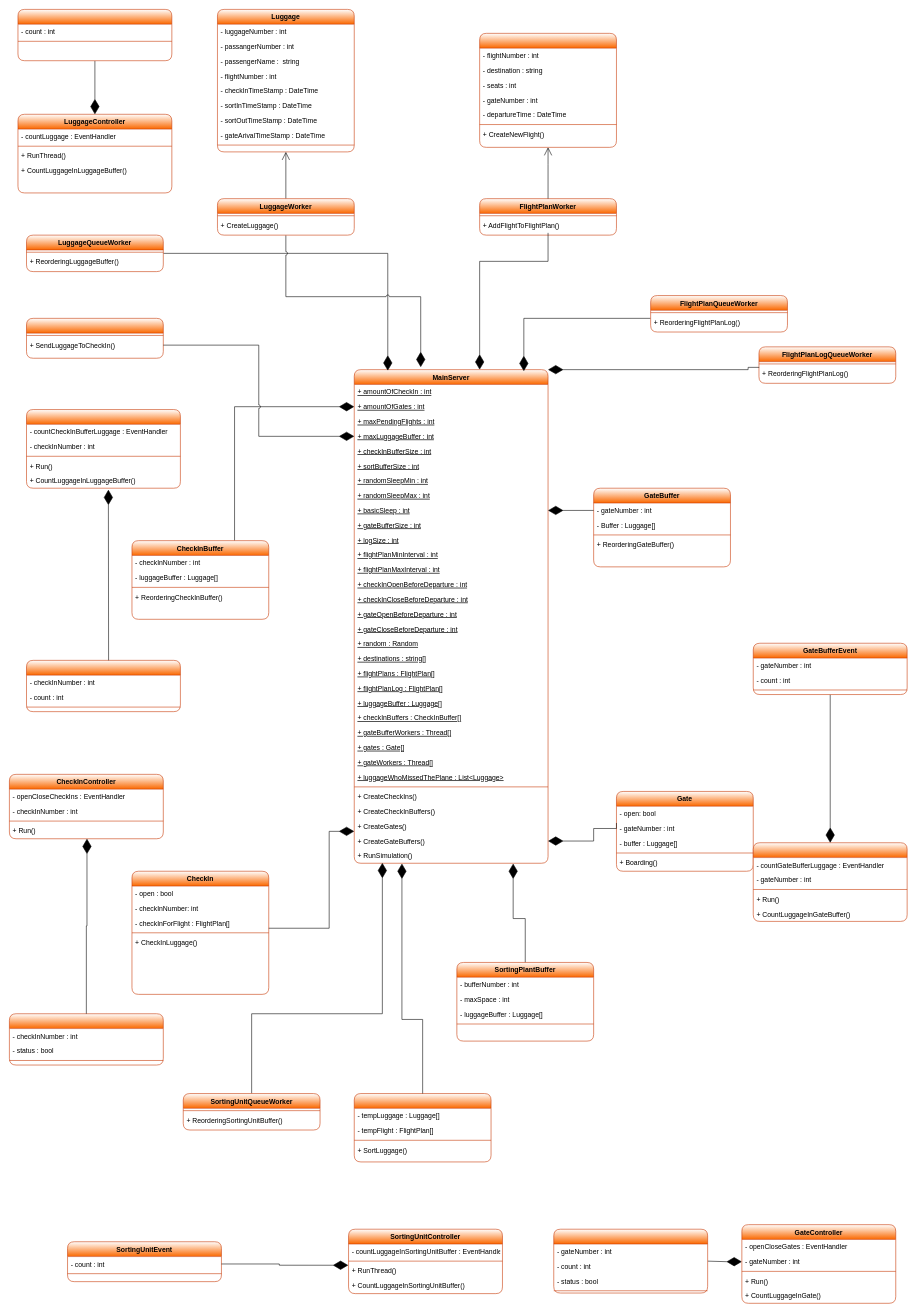
Some shapes in this 917 by 1313 pixel diagram are drawn without their labels. Here are the shapes that lost their labels. From the top down, the box of each, then its label:
(17, 9, 172, 61): LuggageEvent
(479, 33, 616, 147): FlightPlan
(26, 318, 163, 358): MainEntranceSplitter
(26, 409, 180, 488): CheckInBufferController
(26, 660, 180, 712): CheckInBufferEvent
(753, 842, 907, 921): GateBufferController
(9, 1013, 163, 1065): CheckInEvent
(354, 1093, 491, 1162): SortingUnit
(553, 1229, 708, 1293): GateEvent
